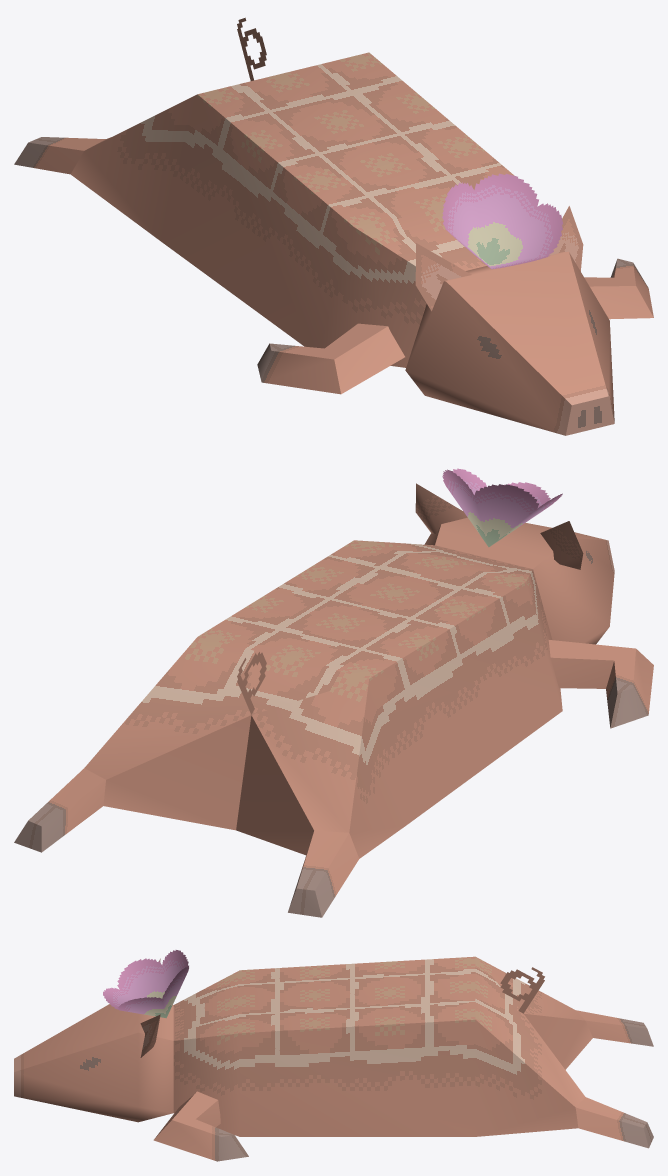
Rendered from 03b1_Roast_Pork.glb.
3 views of the same model, one above another, from view 1: azimuth 30°, elevation 25°; view 2: azimuth 150°, elevation 25°; view 3: azimuth 270°, elevation 25° (orthographic). The views are drawn at different scales.
Visible parts, largest first — view 1: part_0; view 2: part_0; view 3: part_0.
Part boxes in pixels (x1,y1,x2,y2): part_0: [14, 17, 653, 435]; part_0: [14, 468, 653, 917]; part_0: [14, 950, 653, 1161].
Bounding box in the file's own units: 0.5679 × 0.2569 × 1.08.
1 material, 1 textured.
